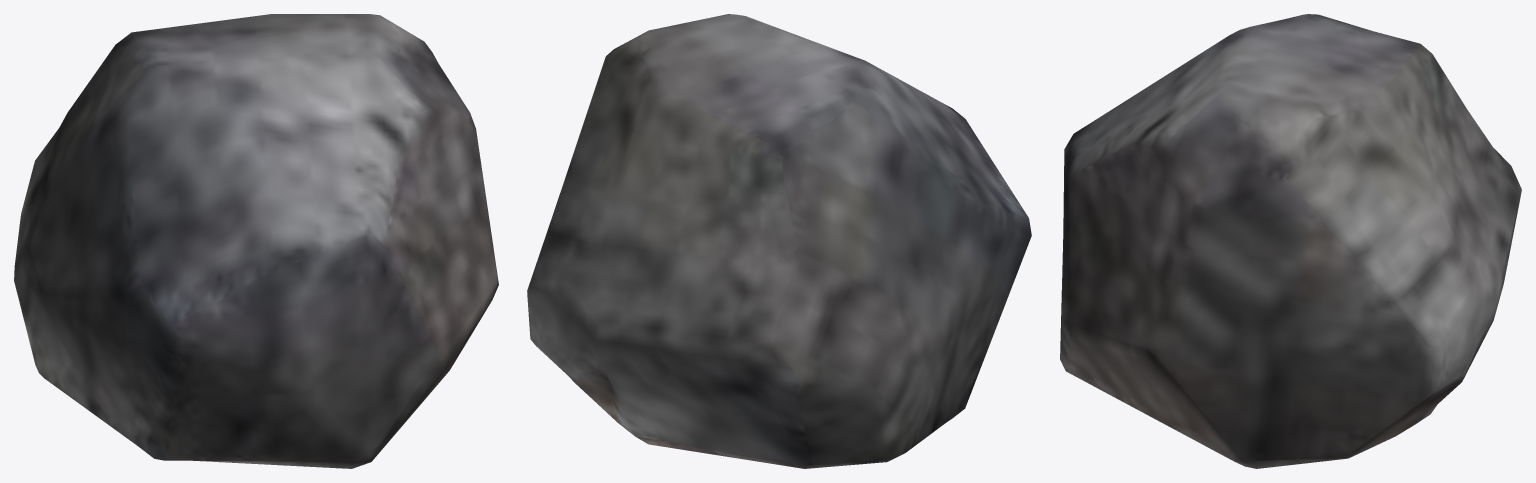
Rendered from rock.fbx.
3 views of the same model, side by side, from view 1: azimuth 30°, elevation 25°; view 2: azimuth 150°, elevation 25°; view 3: azimuth 270°, elevation 25° (orthographic). The views are drawn at different scales.
Visible parts, largest first — view 1: Plane; view 2: Plane; view 3: Plane.
Boxes of the visible parts, x1,y1,x2,y2 form: Plane: [14, 14, 498, 468]; Plane: [527, 14, 1031, 468]; Plane: [1060, 14, 1521, 468].
Bounding box in the file's own units: 466 × 435 × 534.
